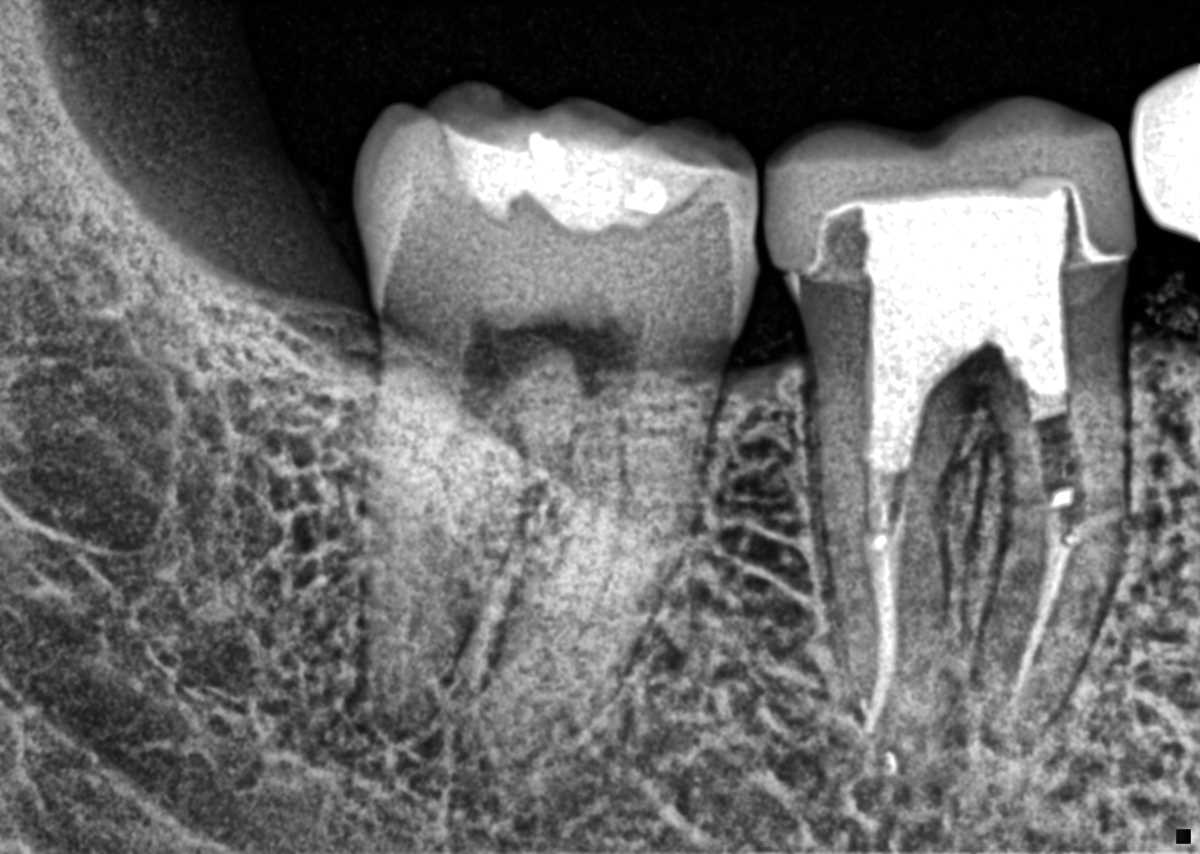Distal Canal: (408, 377, 504, 637)
Distal Root: (366, 357, 538, 741), (805, 380, 975, 744)
Mesial Canal: (554, 392, 629, 681)
Mesial Root: (477, 371, 728, 762), (975, 349, 1135, 759)
Root Canal Filling: (999, 486, 1072, 752), (866, 492, 910, 727), (867, 398, 927, 475), (870, 480, 895, 536)
